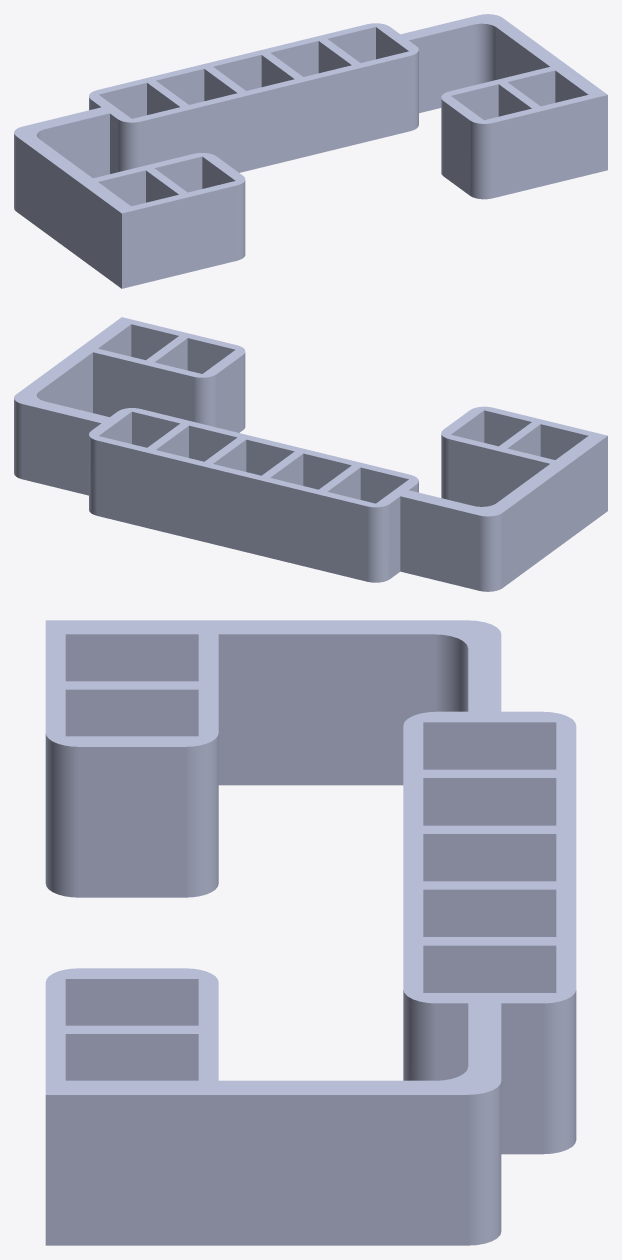
The model's file is peça2.dae.
3 views of the same model, one above another, from view 1: azimuth 30°, elevation 25°; view 2: azimuth 150°, elevation 25°; view 3: azimuth 270°, elevation 25° (orthographic). The views are drawn at different scales.
Parts seen in each view (by area): view 1: node_989883ec_5c33_4f14_98a5_2b54c13140c7_mesh0; view 2: node_989883ec_5c33_4f14_98a5_2b54c13140c7_mesh0; view 3: node_989883ec_5c33_4f14_98a5_2b54c13140c7_mesh0.
Boxes of the visible parts, x1,y1,x2,y2 form: node_989883ec_5c33_4f14_98a5_2b54c13140c7_mesh0: [14, 14, 607, 288]; node_989883ec_5c33_4f14_98a5_2b54c13140c7_mesh0: [14, 317, 607, 591]; node_989883ec_5c33_4f14_98a5_2b54c13140c7_mesh0: [45, 620, 576, 1245].
Size of the model in its own units: 0.0675 by 0.01 by 0.0319.
